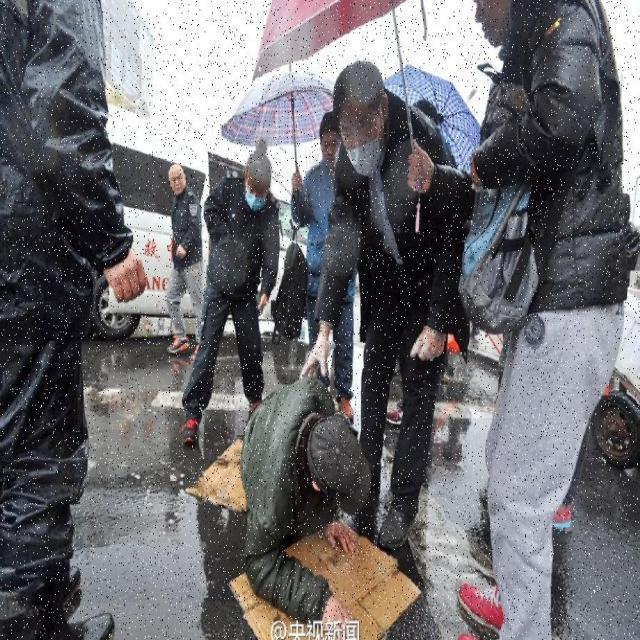fall: (238, 376, 358, 632)
